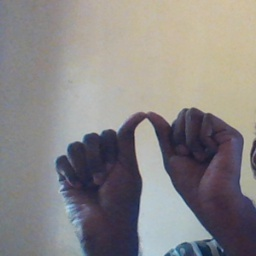A: (53, 106, 245, 221)
